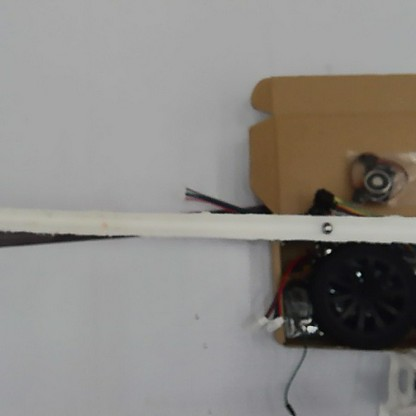ironball: (319, 218, 334, 234)
